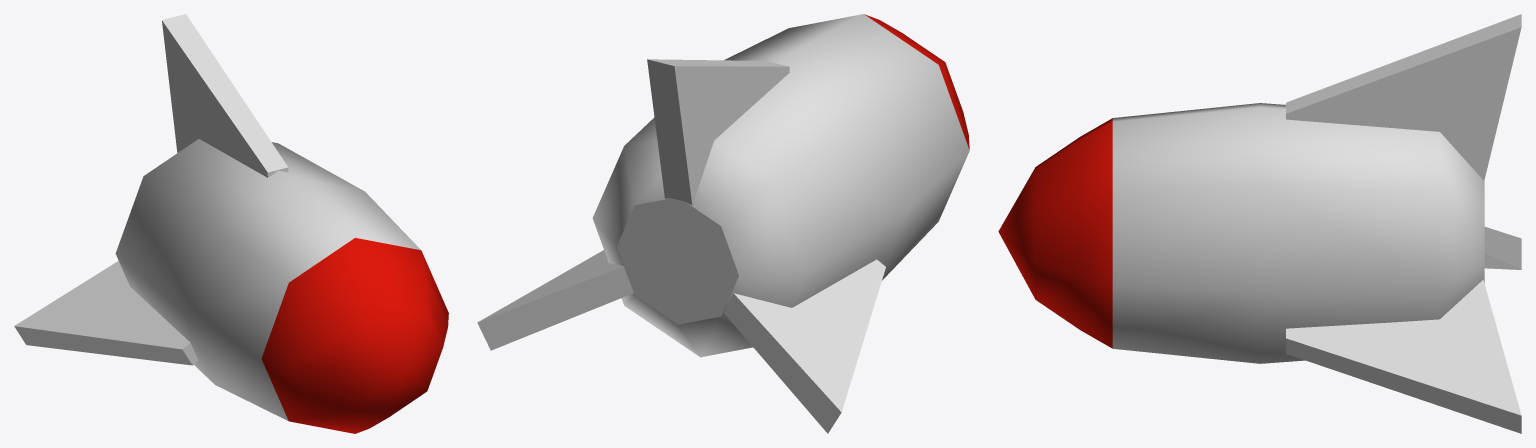
Rendered from Missile.fbx.
The picture shows the model from 3 angles, left to right: view 1: azimuth 30°, elevation 25°; view 2: azimuth 150°, elevation 25°; view 3: azimuth 270°, elevation 25°; orthographic projection. The views are drawn at different scales.
Parts seen in each view (by area): view 1: Missile; view 2: Missile; view 3: Missile.
Boxes of the visible parts, left/top/right/bottom form: Missile: left=14, top=14, right=448, bottom=433; Missile: left=477, top=14, right=969, bottom=433; Missile: left=998, top=14, right=1521, bottom=433.
Size of the model in its own units: 59.46 by 52.6 by 73.76.
